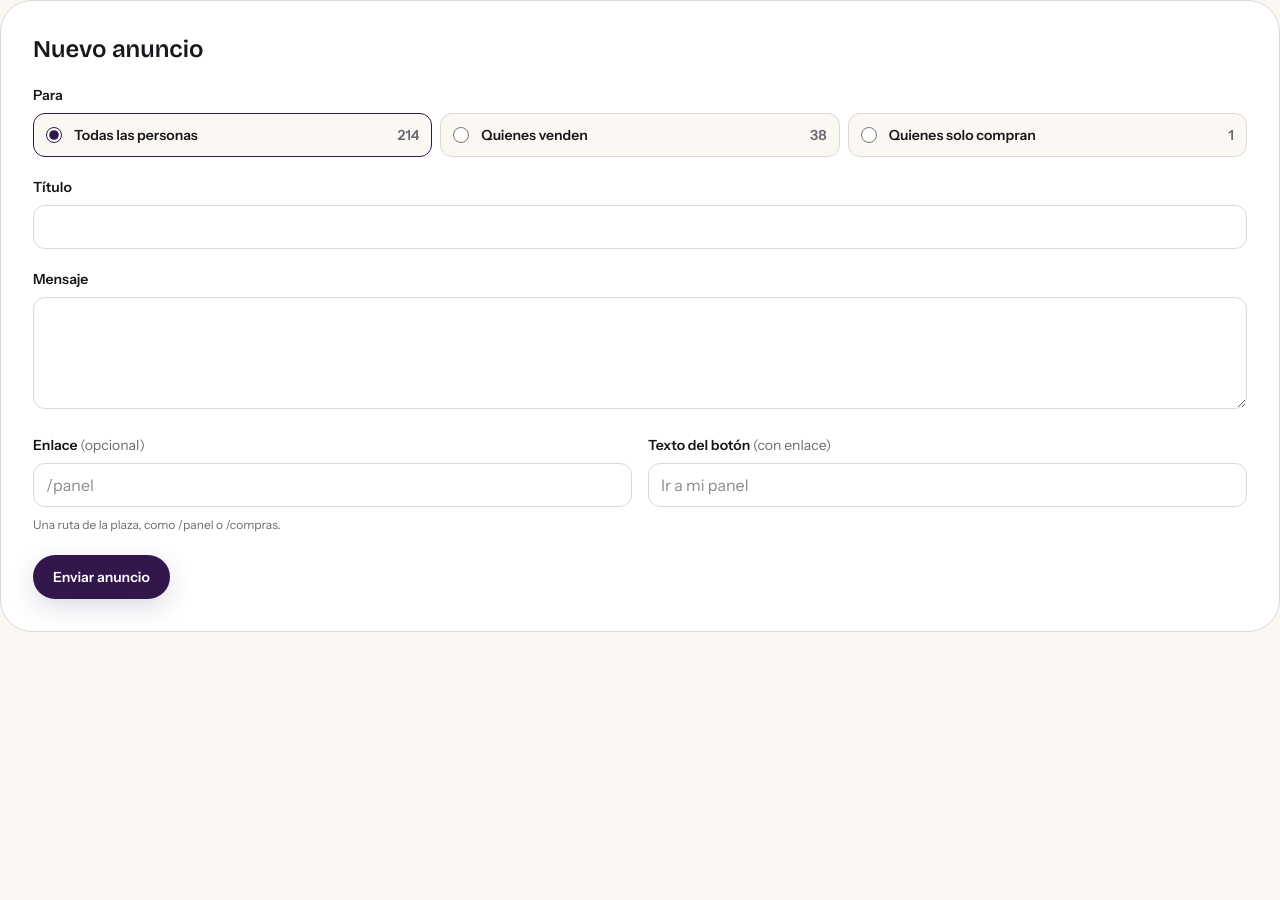
Scenario: BroadcastForm › confirms with the count of the audience that was chosen
Type "Mantenimiento" into the field labelled "Título" at {"x": 640, "y": 227}, box [33,205,1247,249]
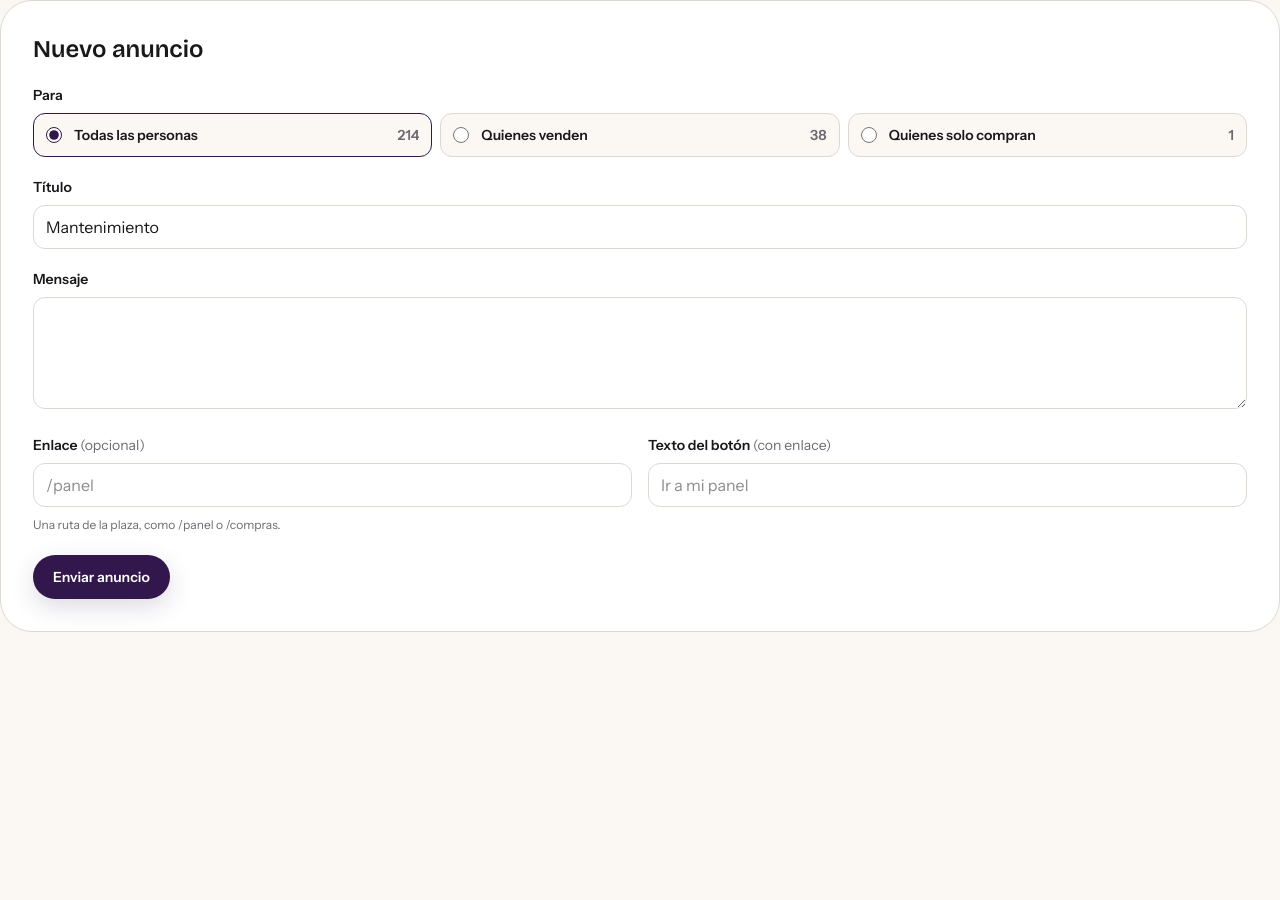
Type "El sábado por la noche." into the text box labelled "Mensaje" at {"x": 640, "y": 353}, box [33,297,1247,409]
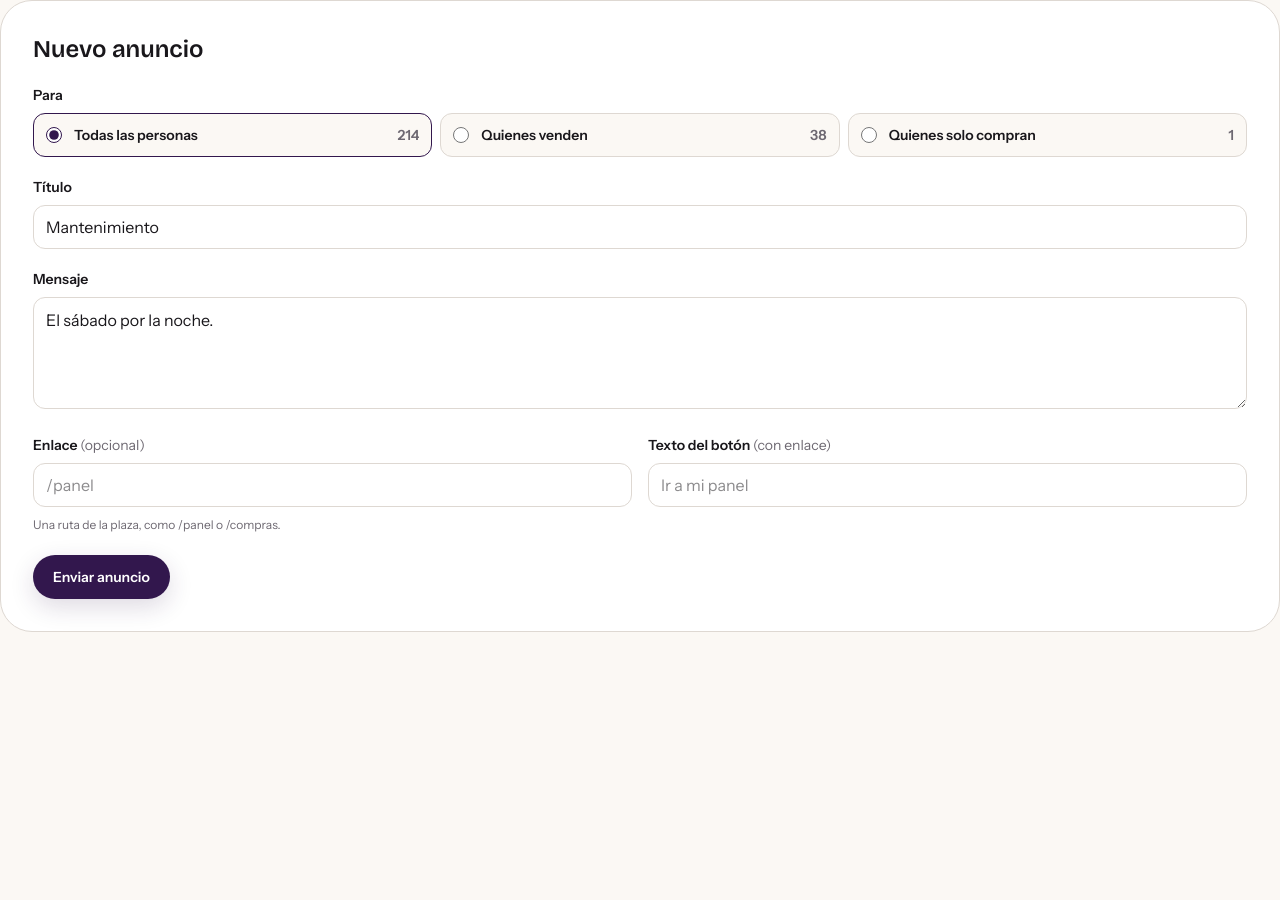
Click the radio button labelled "Quienes venden 38" at {"x": 461, "y": 135}, box [453,127,469,143]
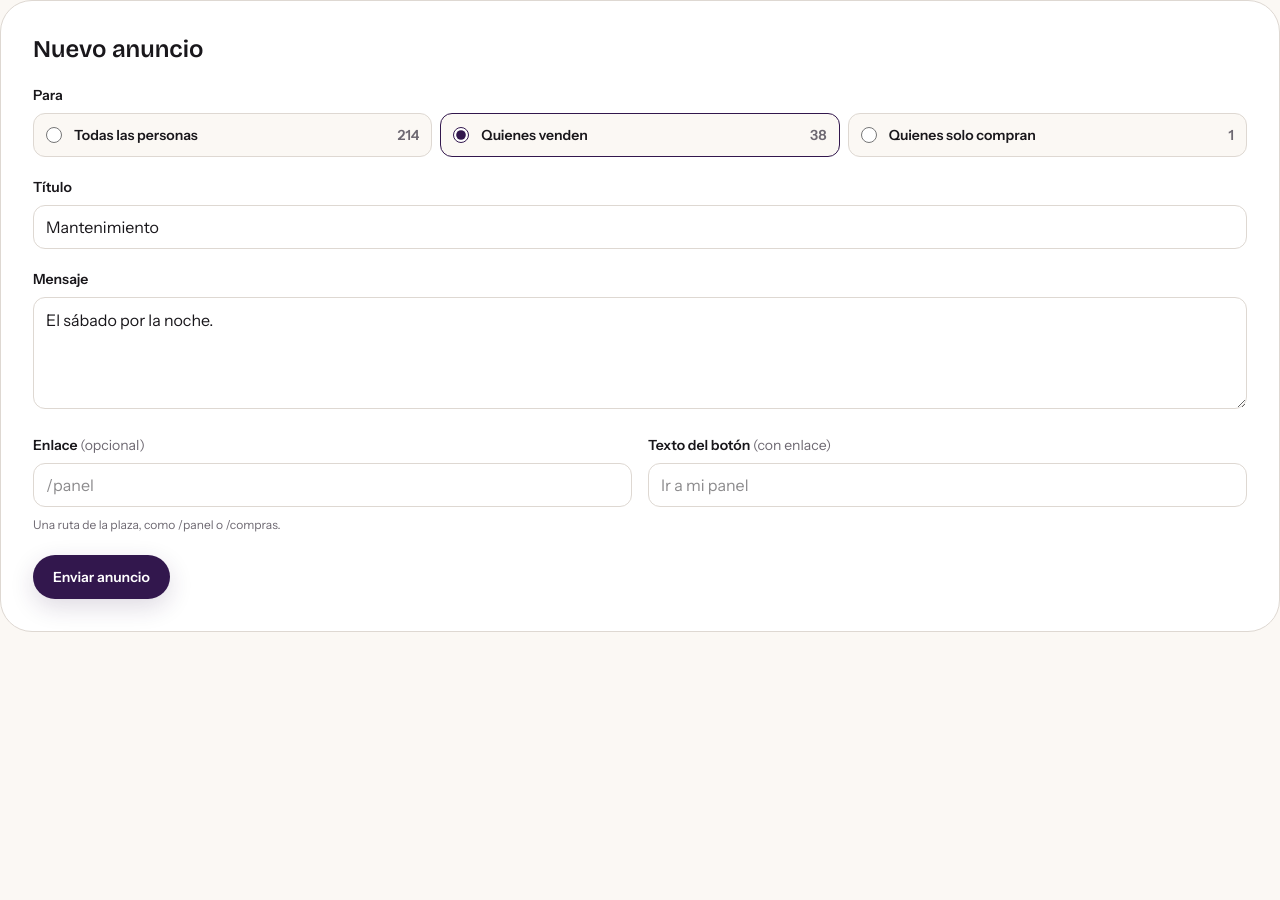
Click the button "Enviar anuncio" at {"x": 101, "y": 577}, box [33,555,170,599]
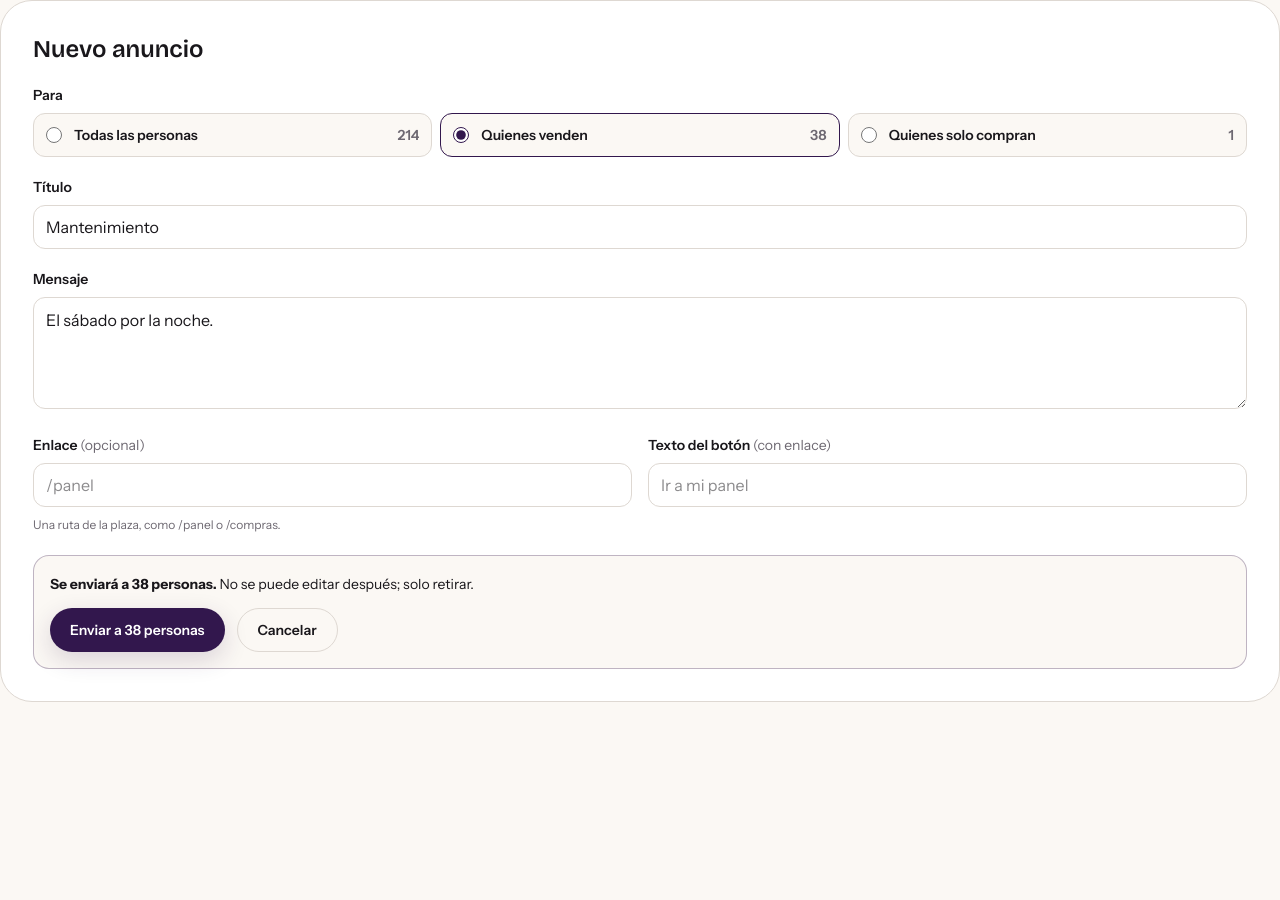
Result: the text "Se enviará a 38 personas." is shown at [50,575,217,593]
Result: the button "Enviar a 38 personas" is shown at [50,608,224,652]
